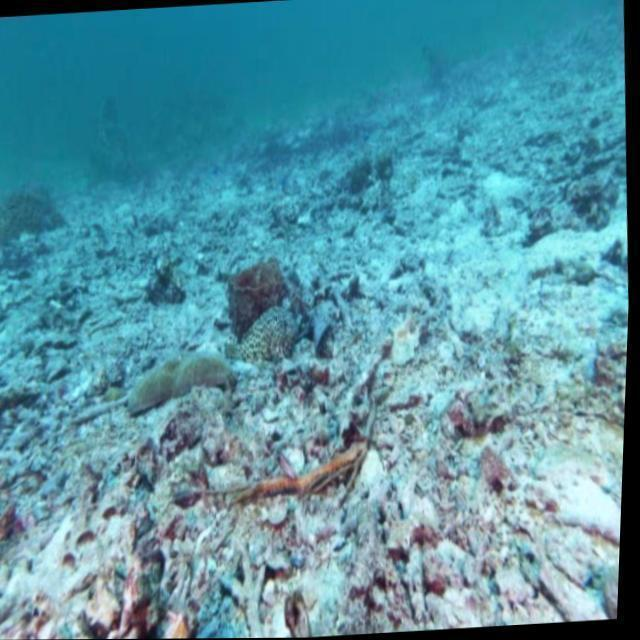Dead Coral: (0, 174, 609, 628)
